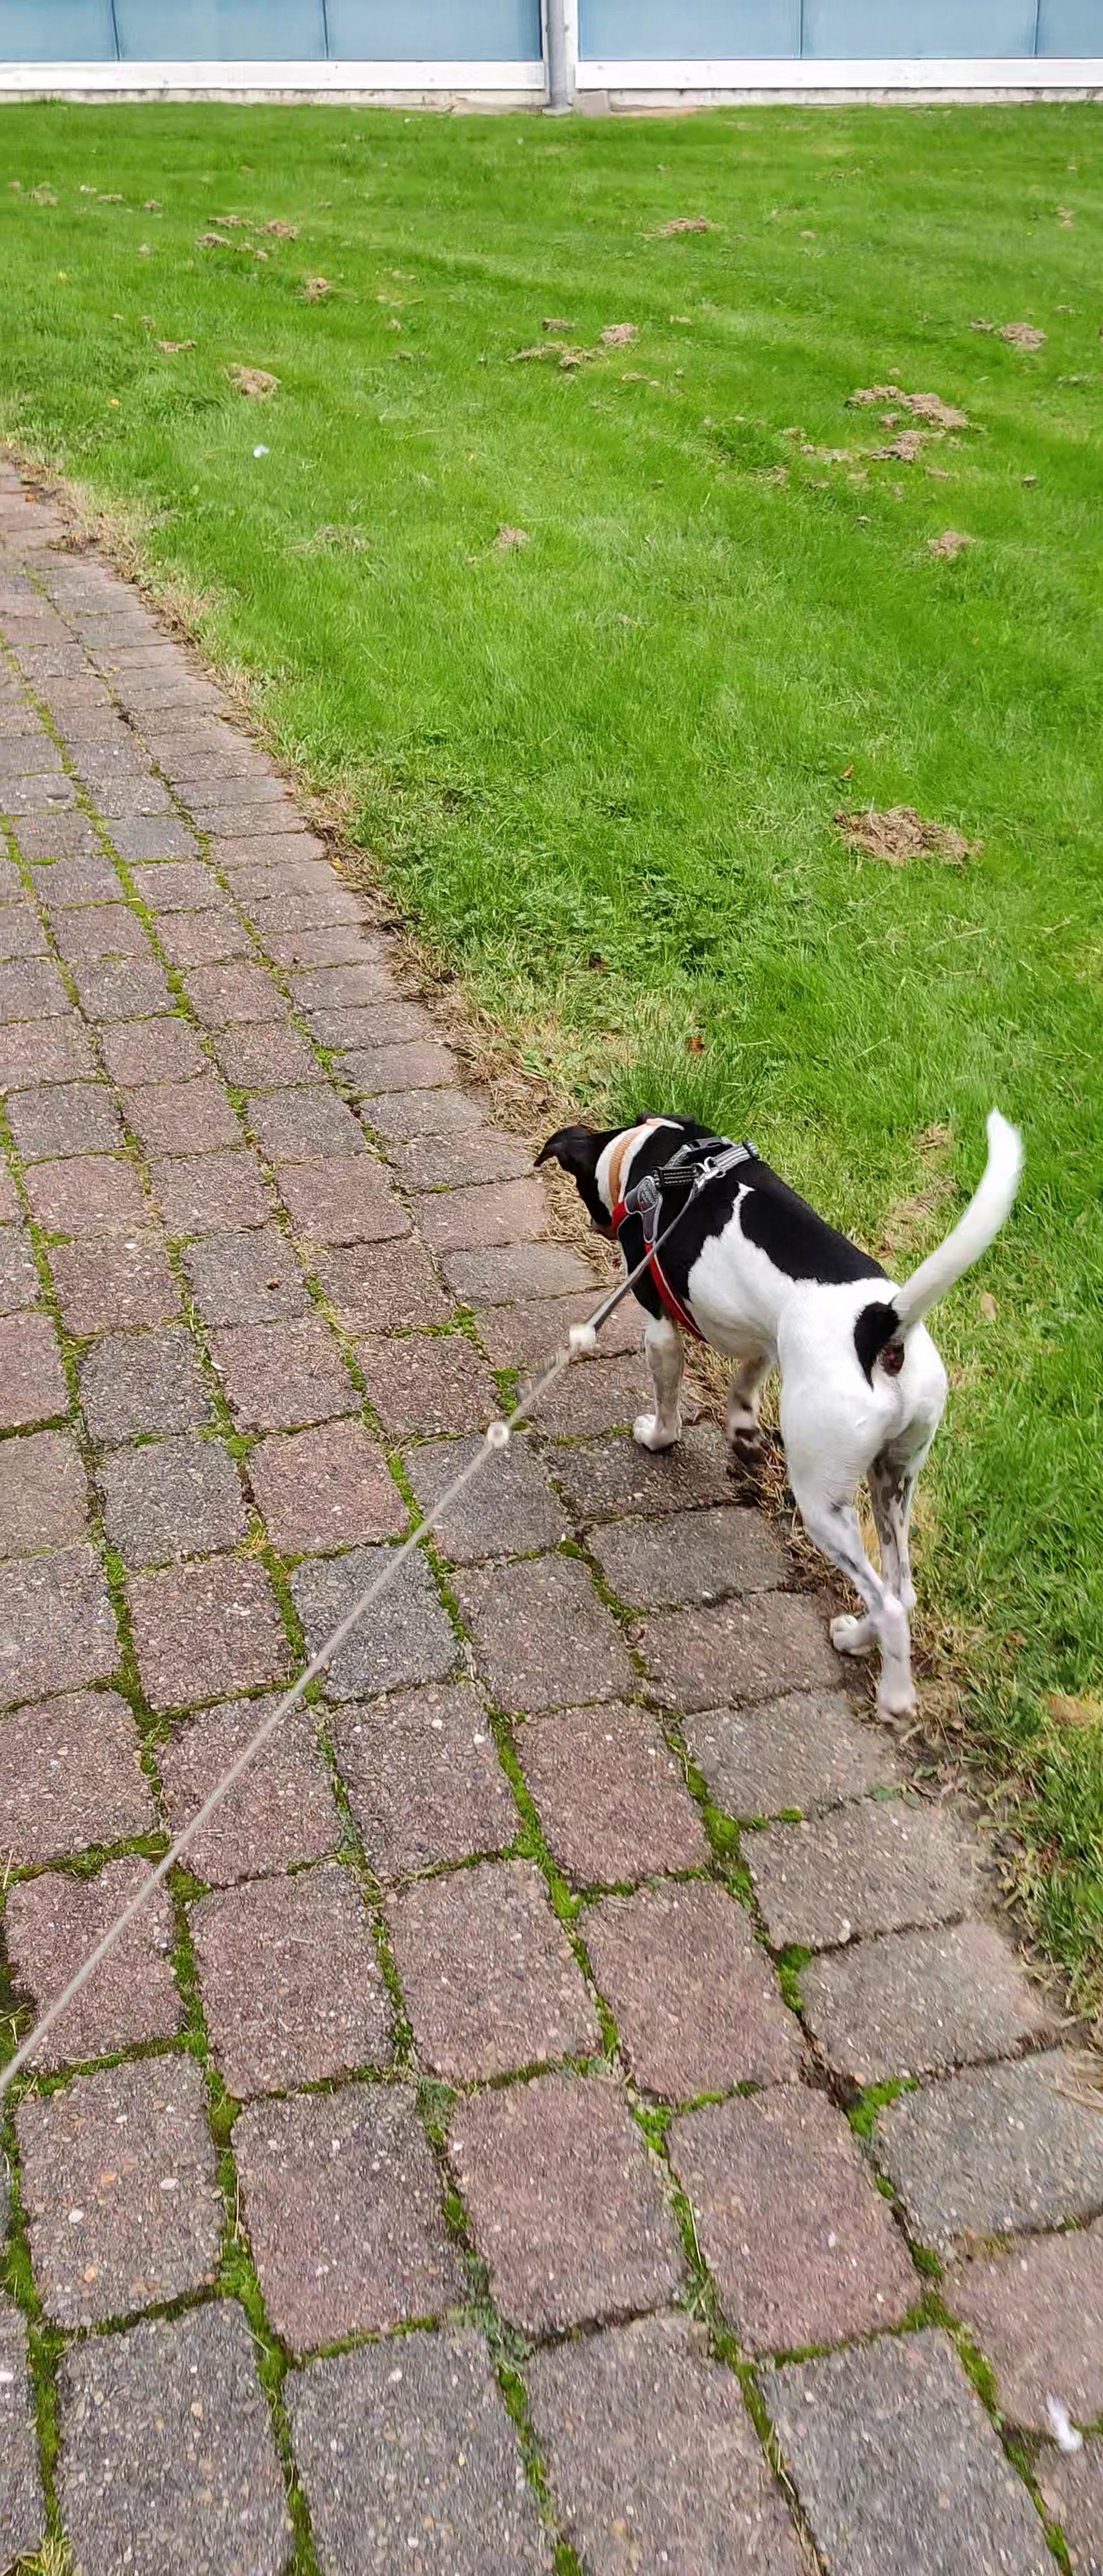Dog: (523, 1099, 1032, 1735)
